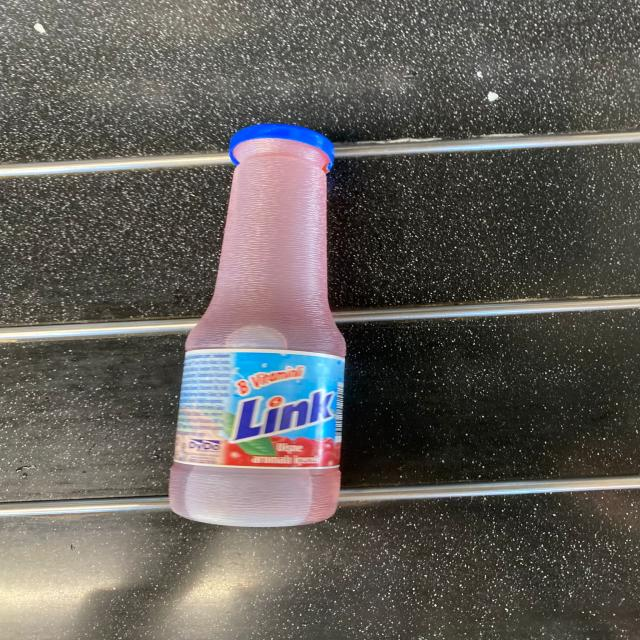yan_yemek: (166, 122, 348, 527)
